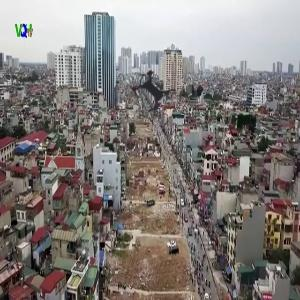drone: (111, 54, 189, 132)
